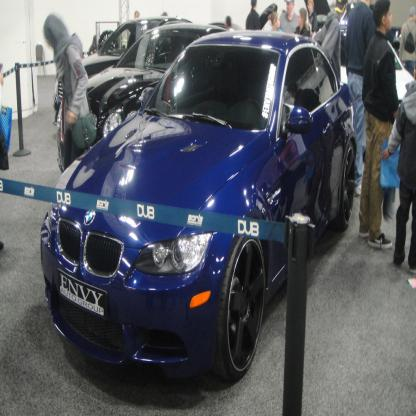Car: (41, 1, 416, 382)
